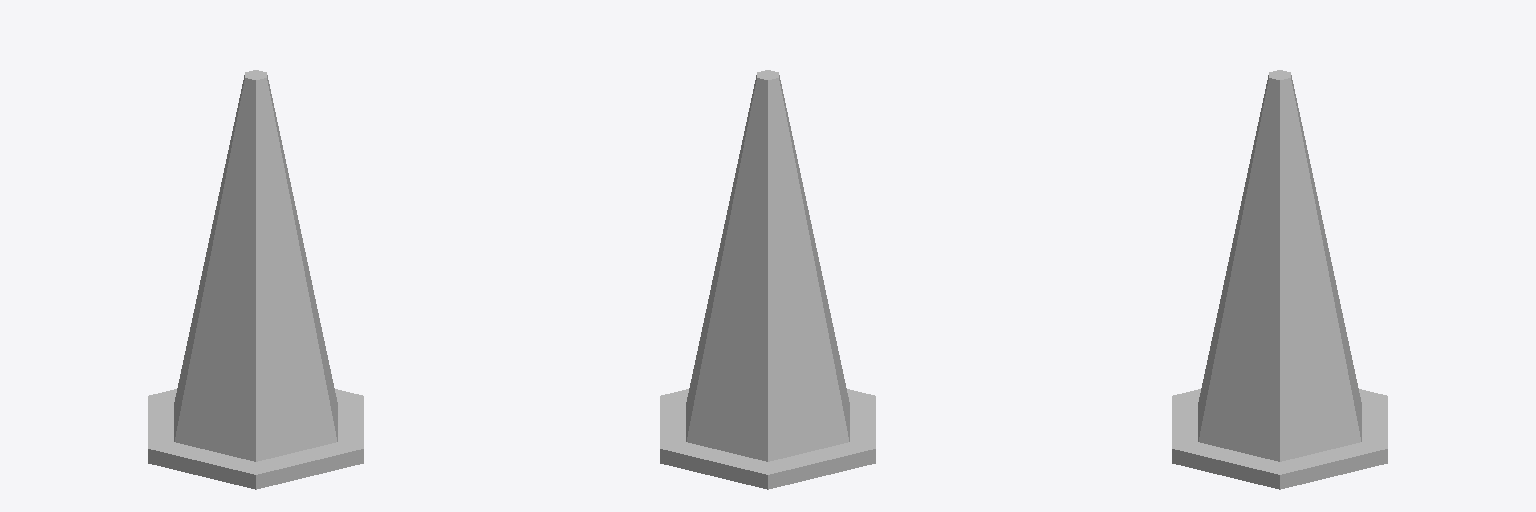
File: street cone.obj
The picture shows the model from 3 angles: view 1: azimuth 30°, elevation 25°; view 2: azimuth 150°, elevation 25°; view 3: azimuth 270°, elevation 25°; orthographic projection.
Parts seen in each view (by area): view 1: street_cone_; view 2: street_cone_; view 3: street_cone_.
Boxes of the visible parts, x1,y1,x2,y2 form: street_cone_: [148, 70, 363, 489]; street_cone_: [660, 70, 875, 489]; street_cone_: [1172, 70, 1387, 489].
Size of the model in its own units: 49.35 by 78.93 by 42.74.